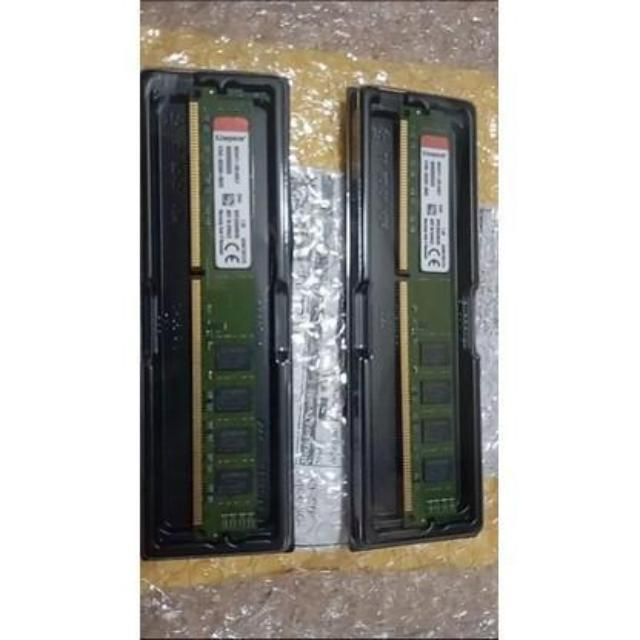RAM: (179, 69, 276, 551), (399, 91, 467, 538)
